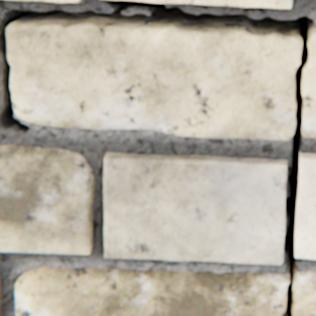brick: (104, 152, 287, 263), (0, 144, 95, 253), (294, 152, 315, 258), (127, 0, 292, 8), (11, 0, 87, 2), (0, 265, 3, 315)
broken_brick: (8, 21, 301, 140), (16, 266, 289, 315), (302, 28, 315, 137), (292, 269, 315, 315)
crack: (0, 0, 315, 315)
